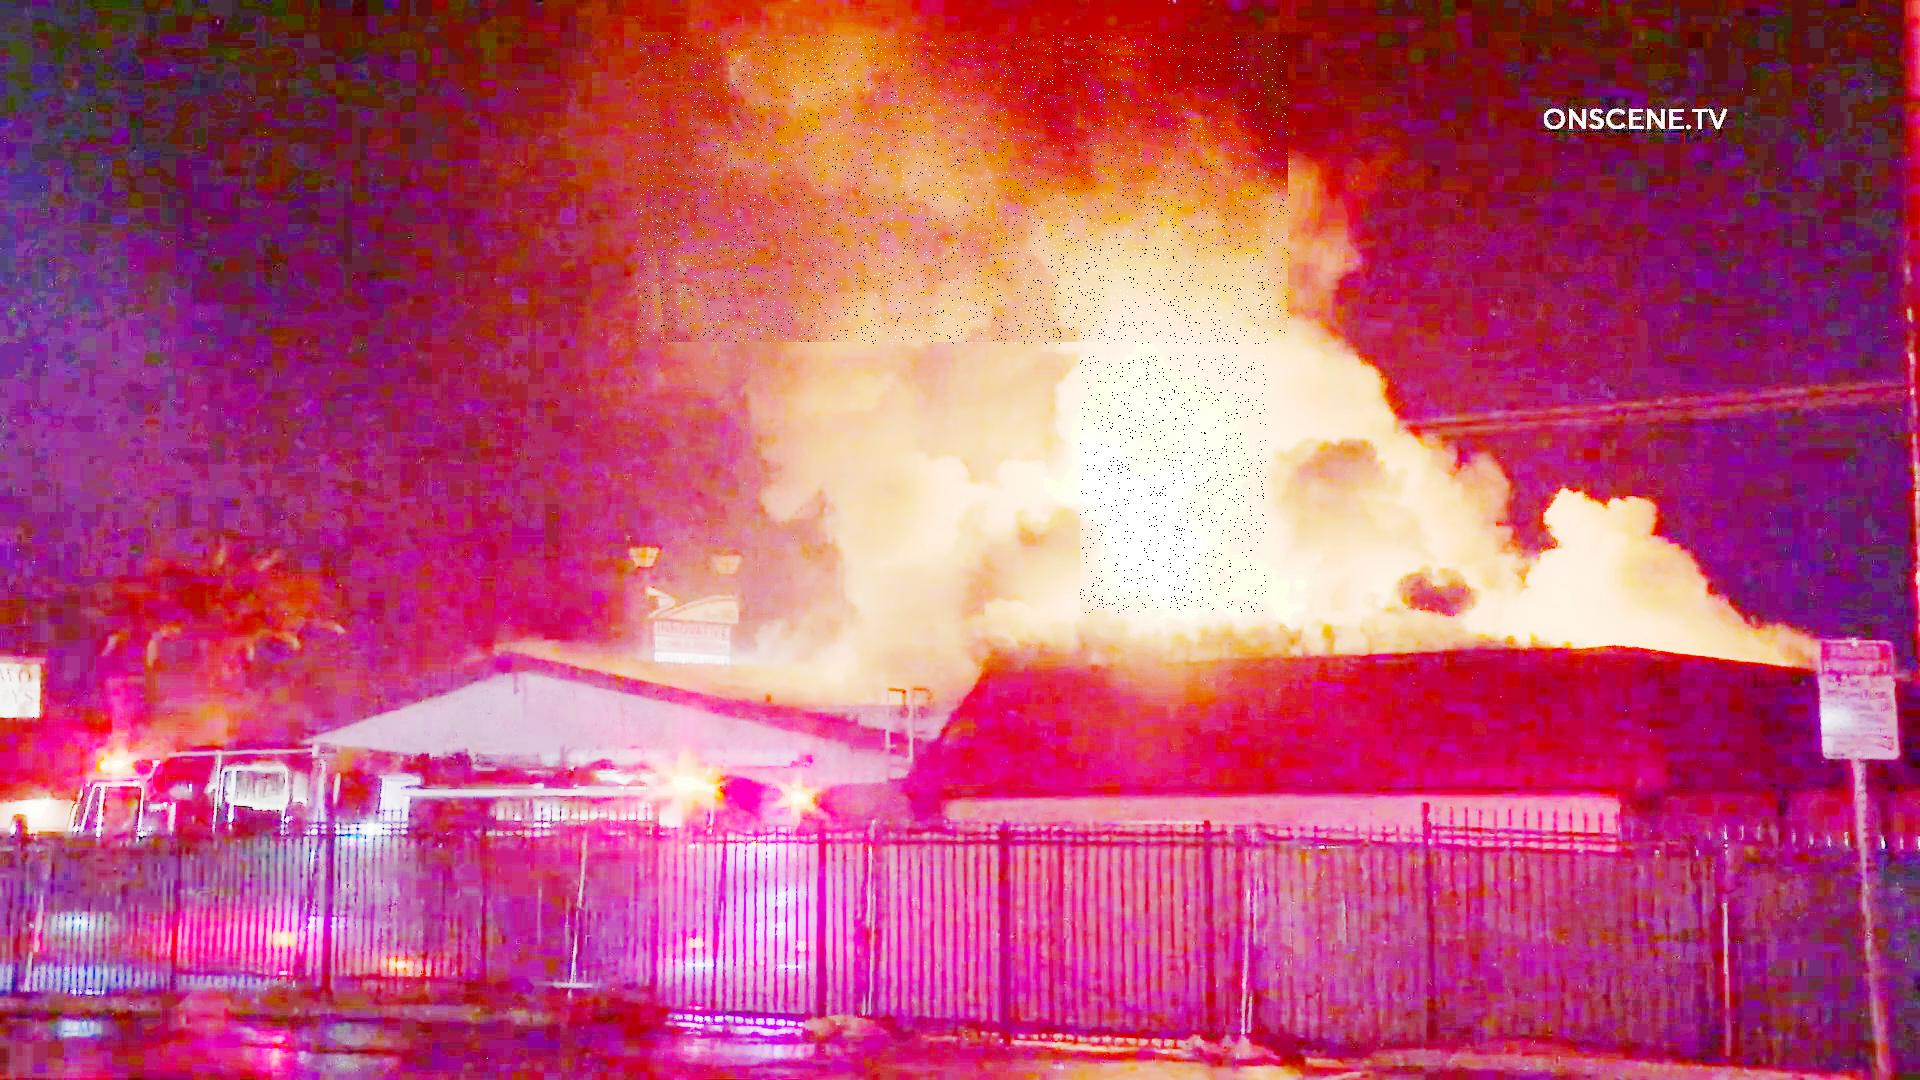fire: (1081, 356, 1267, 615)
smoke: (638, 36, 1291, 344)
